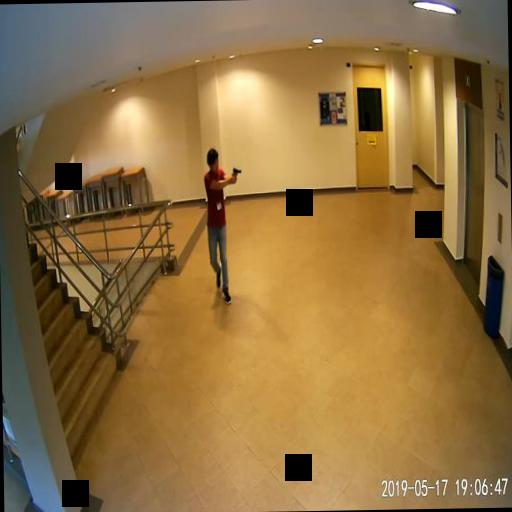Handgun: (232, 164, 240, 180)
